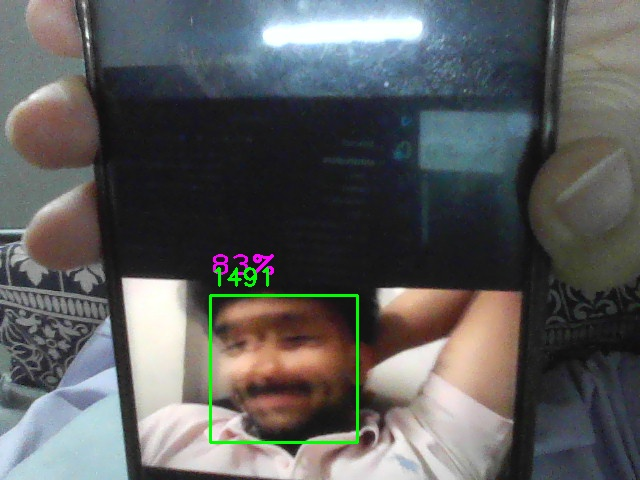fake: (210, 295, 358, 443)
